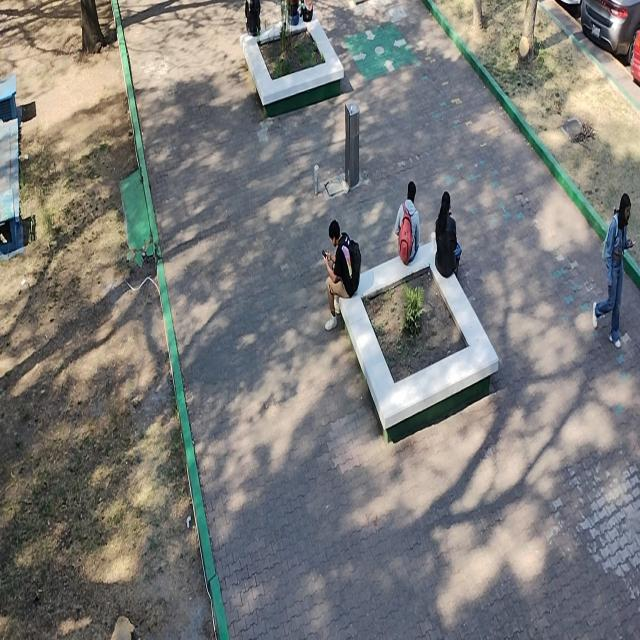adult: (591, 192, 634, 352), (322, 218, 358, 332), (433, 188, 461, 278), (393, 179, 422, 260)
